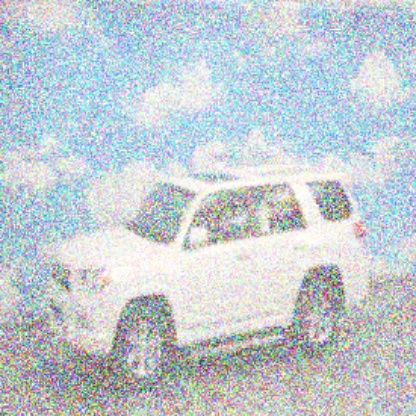Vehicle: (46, 164, 369, 394)
